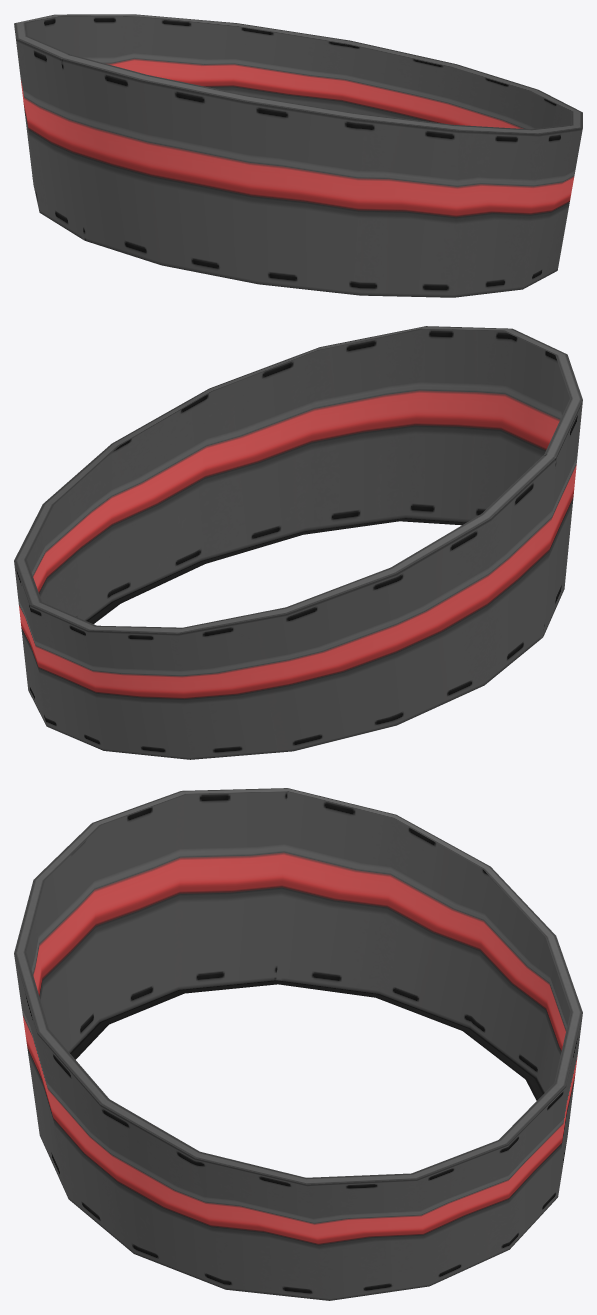
Rendered from ninjassuitthigh.glb.
The picture shows the model from 3 angles, top to bottom: view 1: azimuth 30°, elevation 25°; view 2: azimuth 150°, elevation 25°; view 3: azimuth 270°, elevation 25°; orthographic projection. The views are drawn at different scales.
Visible parts, largest first — view 1: ninjassuitthigh; view 2: ninjassuitthigh; view 3: ninjassuitthigh.
Boxes of the visible parts, x1,y1,x2,y2 form: ninjassuitthigh: (14,14,582,297); ninjassuitthigh: (14,326,582,759); ninjassuitthigh: (14,788,582,1300).
Bounding box in the file's own units: 0.2246 × 0.1293 × 0.226.
1 material, 1 textured.
